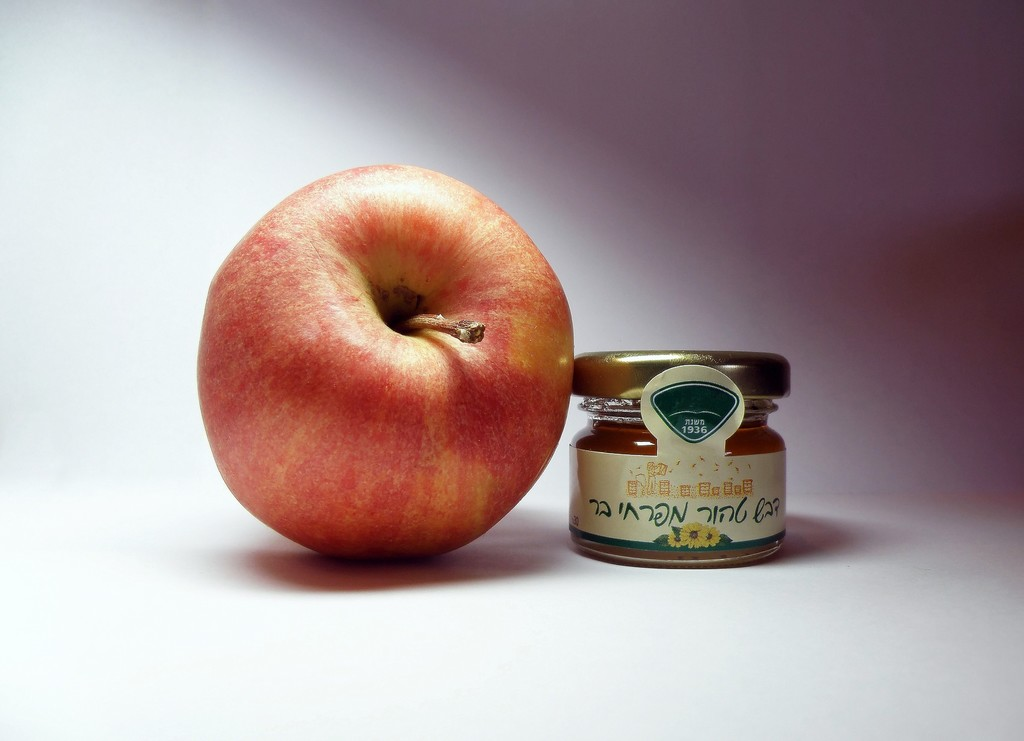Apple: (209, 159, 563, 575)
